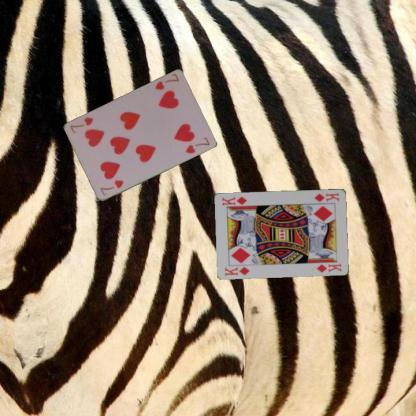7h: (152, 71, 180, 92), (98, 177, 124, 197)
Kd: (222, 264, 251, 277), (312, 190, 340, 202)
